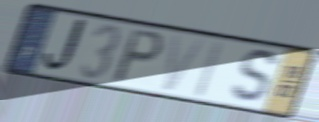3: (78, 20, 125, 85)
I: (190, 38, 228, 100)
J: (41, 17, 93, 75)
P: (109, 27, 167, 86)
S: (228, 47, 282, 107)
V: (161, 32, 209, 94)
